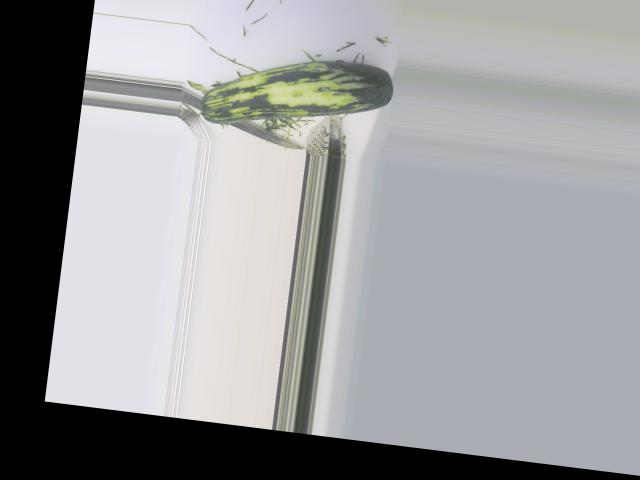cucumber: (197, 43, 395, 144)
